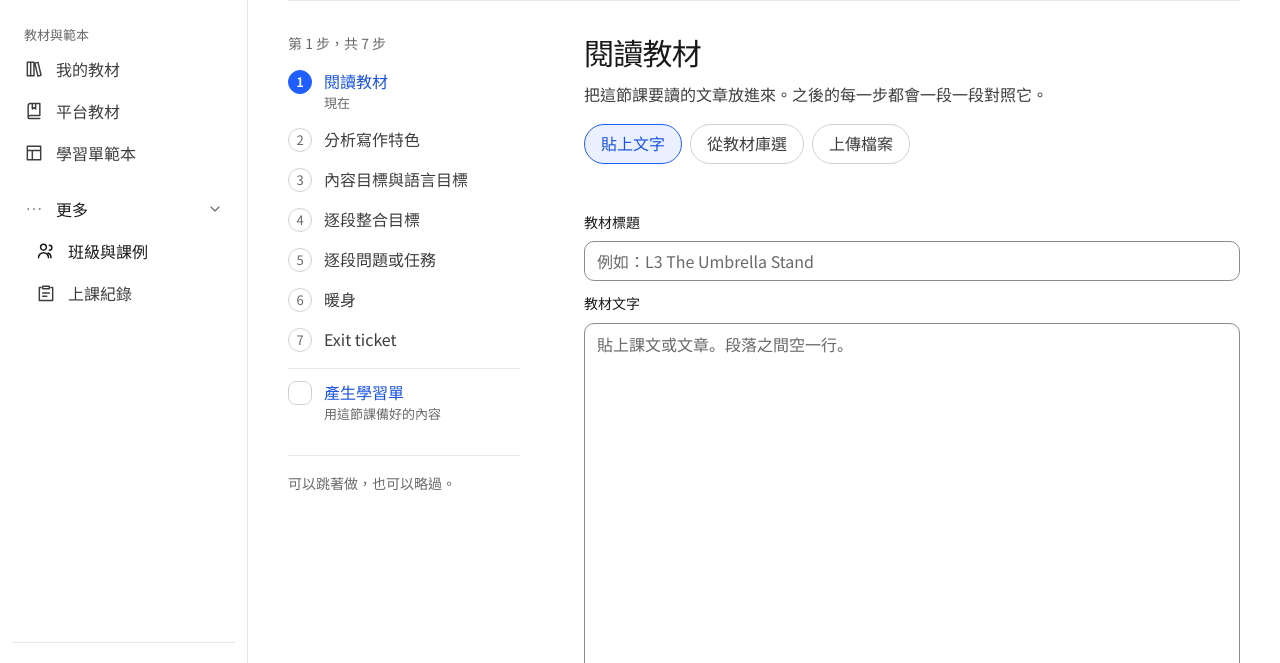
Scenario: entries › from a lesson: the lesson page creates a linked worksheet; what was carried over can be edited and removed
This screenshot has width=1280, height=663.
The rail ends with 產生學習單, so it can be made from any step.
Click the button "產生學習單 用這節課備好的內容" at (404, 400), box x1=288 y1=368 x2=520 y2=431
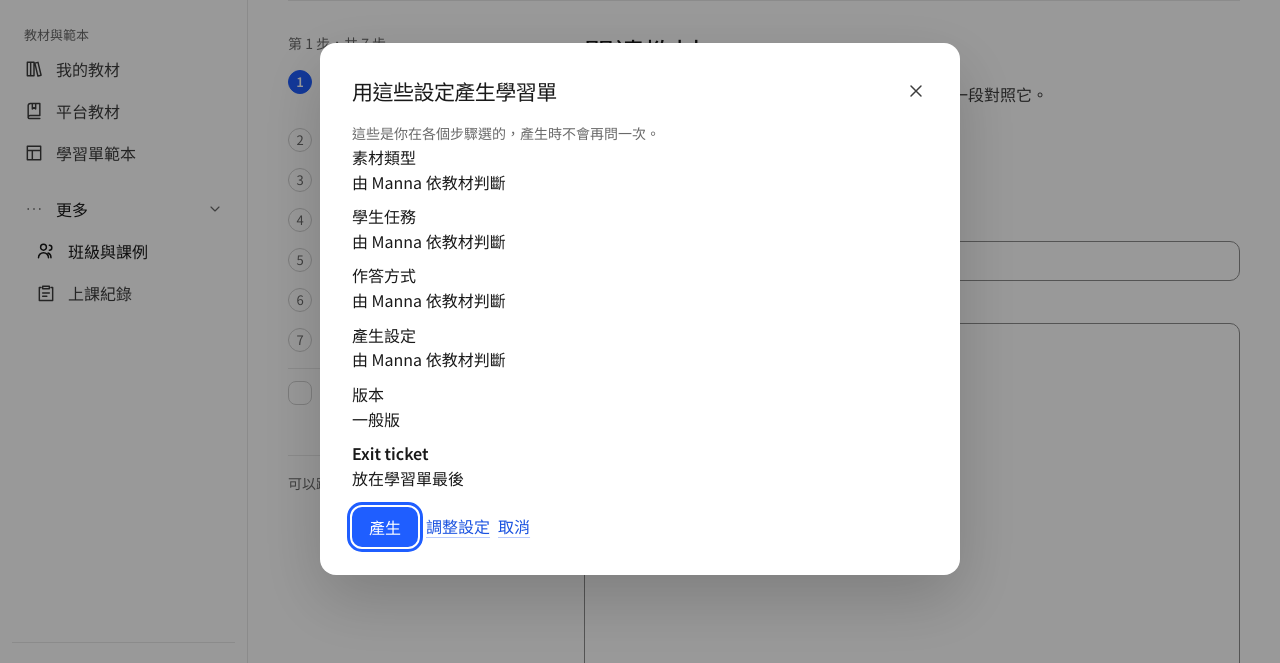
Click the button "調整設定" at (458, 527), box x1=426 y1=514 x2=490 y2=539
(page scrolled)
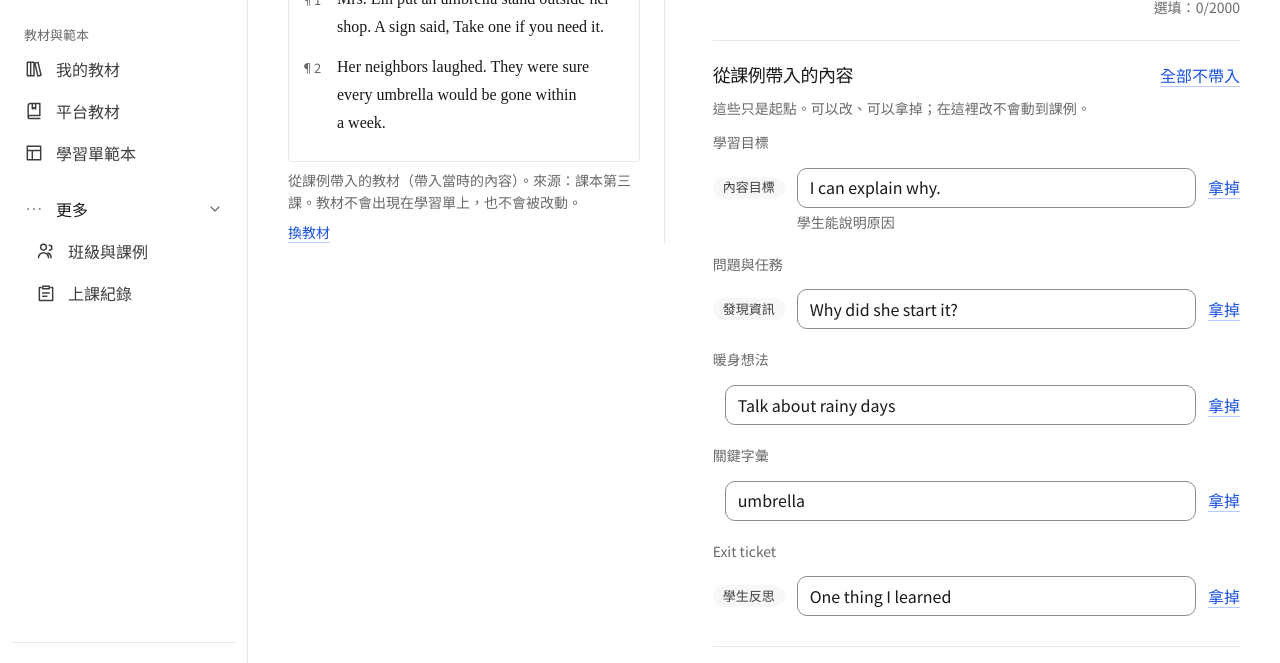
Expected: the field named "學習目標 1" holds "I can explain why.", x1=797 y1=168 x2=1196 y2=208
Expected: the field named "帶入的任務 1" holds "Why did she start it?", x1=797 y1=289 x2=1196 y2=329
Expected: the field named "帶入的暖身想法 1" holds "Talk about rainy days", x1=725 y1=385 x2=1196 y2=425
Click the button with aria-label "拿掉任務 1" at (1224, 309), box x1=1208 y1=297 x2=1240 y2=322
(page scrolled)
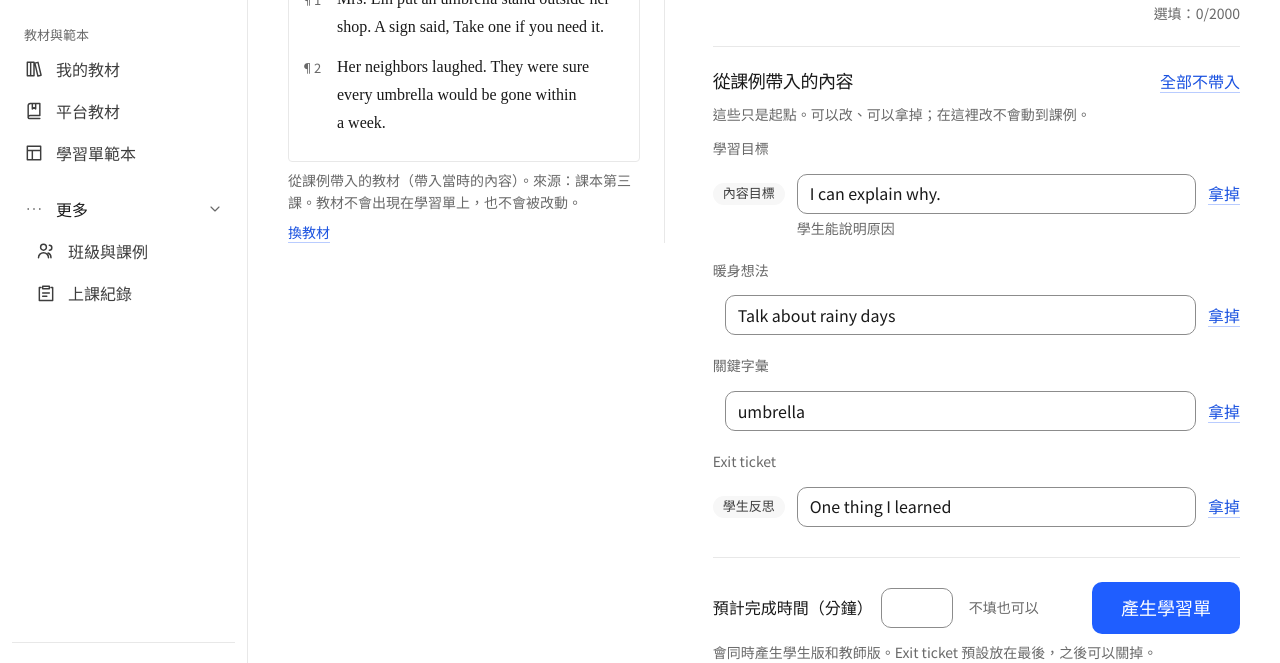
Click the button with aria-label "拿掉學習目標 1" at (1224, 194), box x1=1208 y1=181 x2=1240 y2=206
(page scrolled)
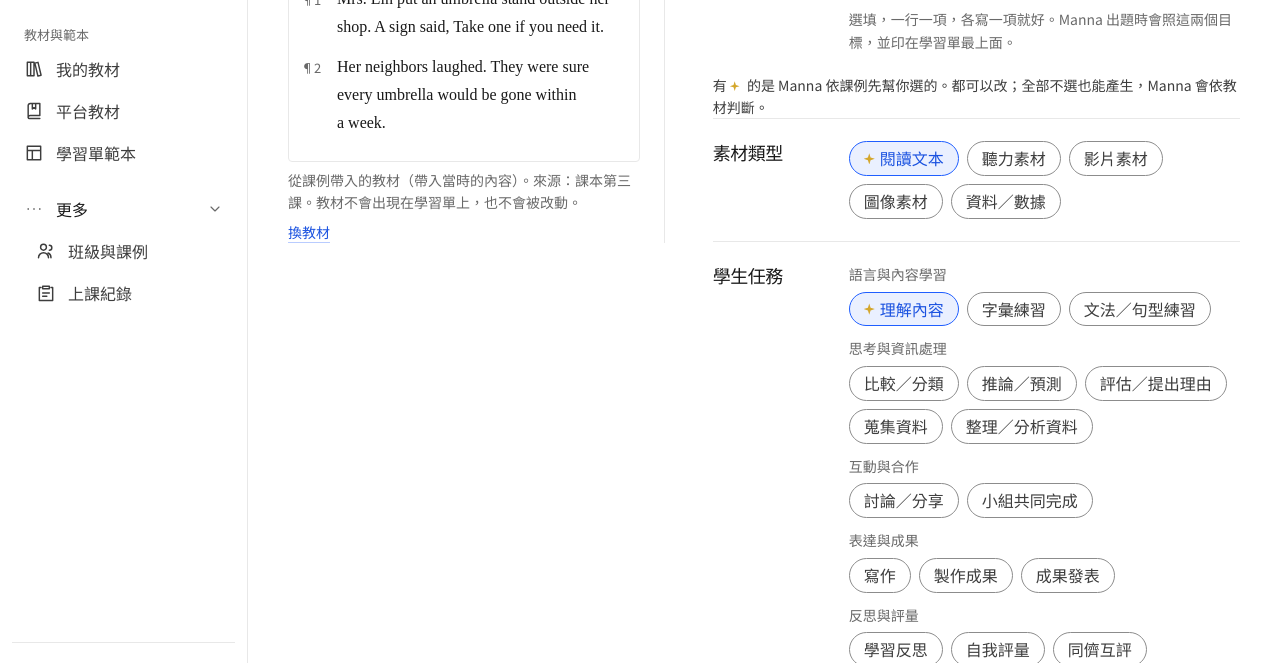
Click the checkbox labelled "理解內容" at (904, 309), box x1=849 y1=292 x2=959 y2=326
(page scrolled)
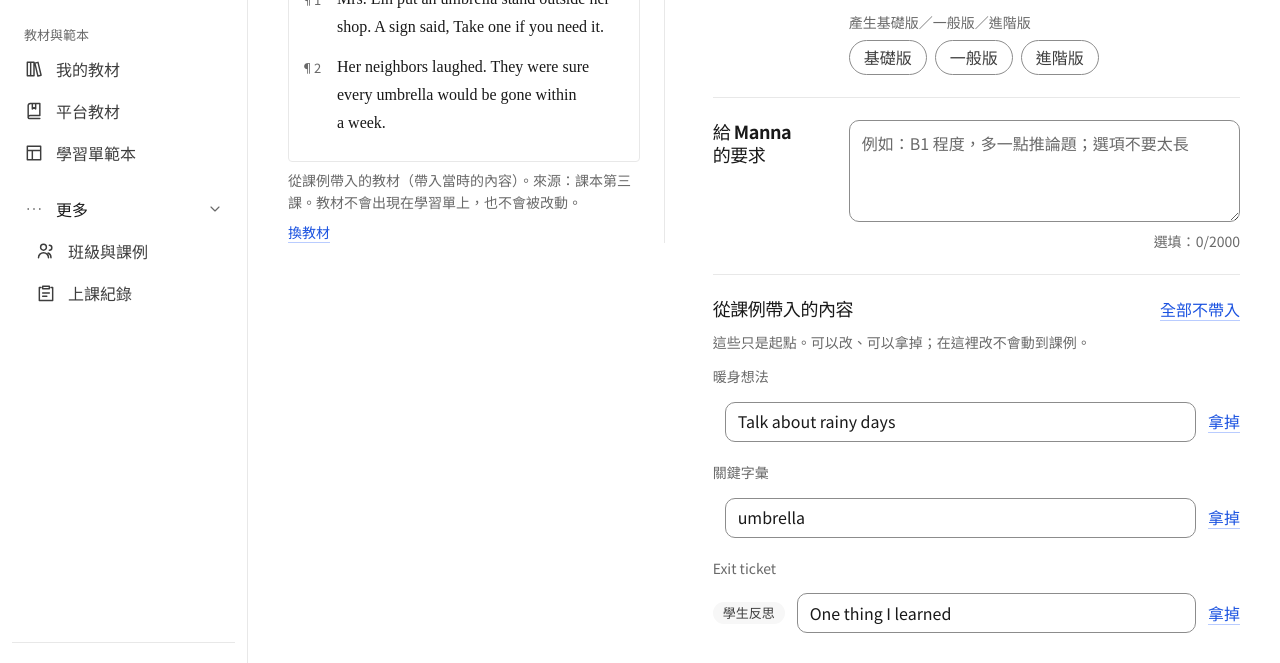
Click the button "全部不帶入" at (1200, 310), box x1=1160 y1=297 x2=1240 y2=322
(page scrolled)
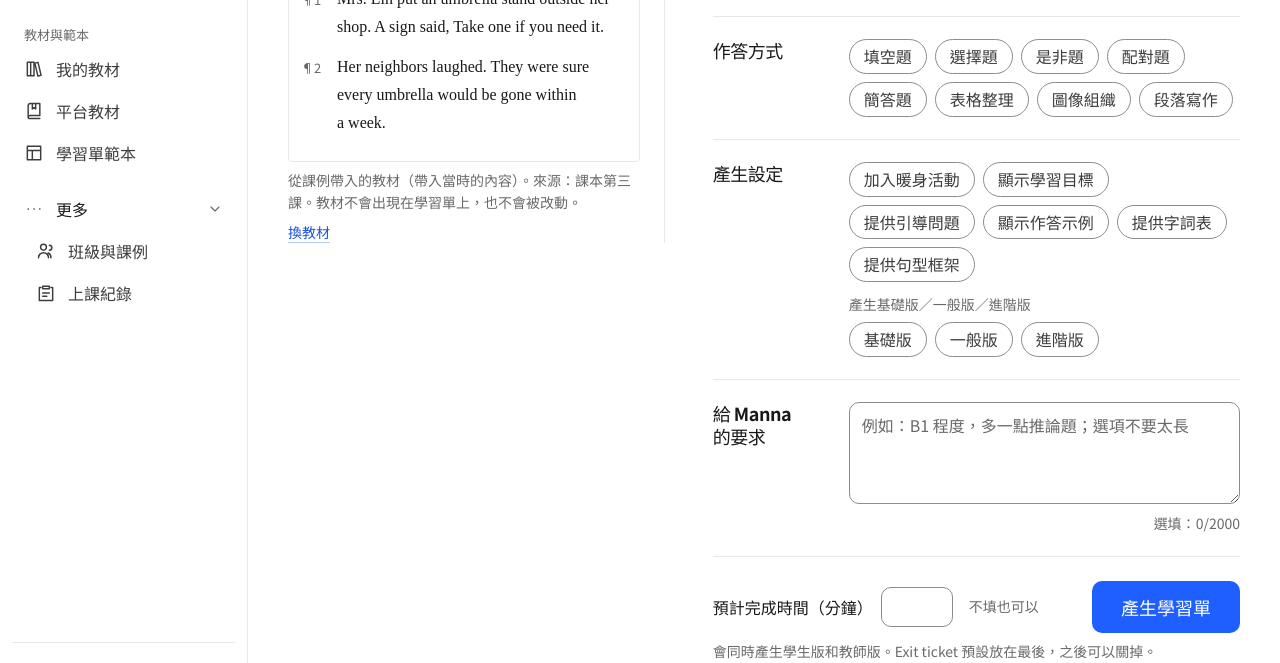
Expected: the heading "從課例帶入的內容" is gone
